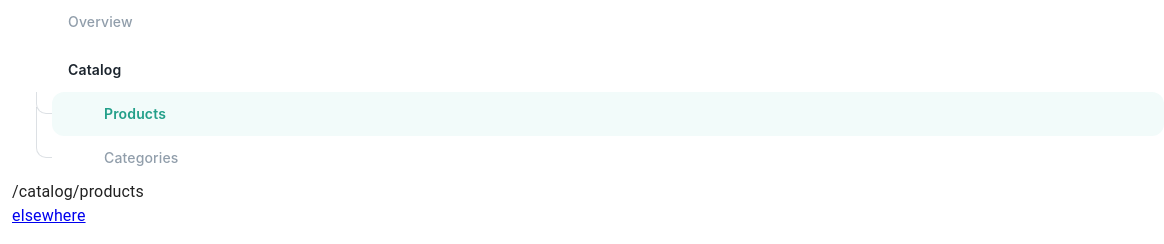
Test case: Menu (full) › expands a manually collapsed group again when navigating into it
This screenshot has width=1164, height=244.
Click the button "Catalog": (95, 70) x1=68 y1=61 x2=121 y2=78
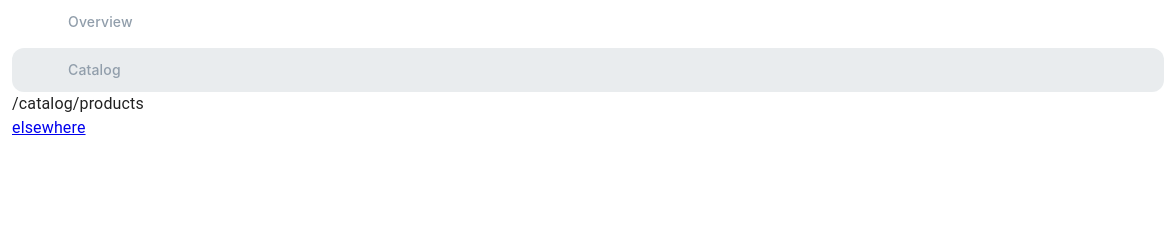
Now the button "Catalog" is collapsed, box x1=12 y1=48 x2=1163 y2=92
Click the link "elsewhere": (49, 128) x1=12 y1=118 x2=86 y2=137
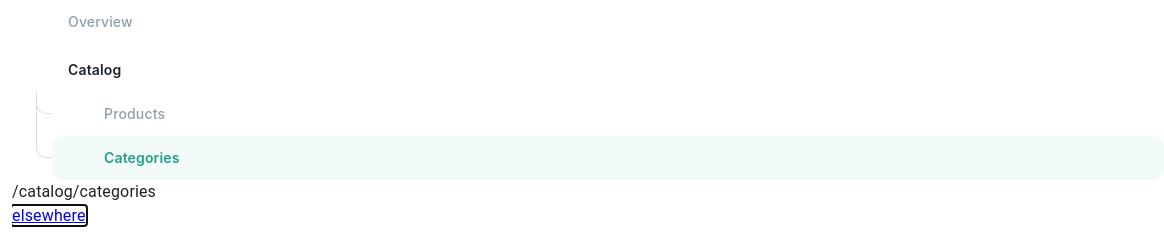
Now the text with test id "location" reads "/catalog/categories", box x1=12 y1=182 x2=156 y2=201
Now the button "Catalog" is expanded, box x1=68 y1=61 x2=121 y2=78
